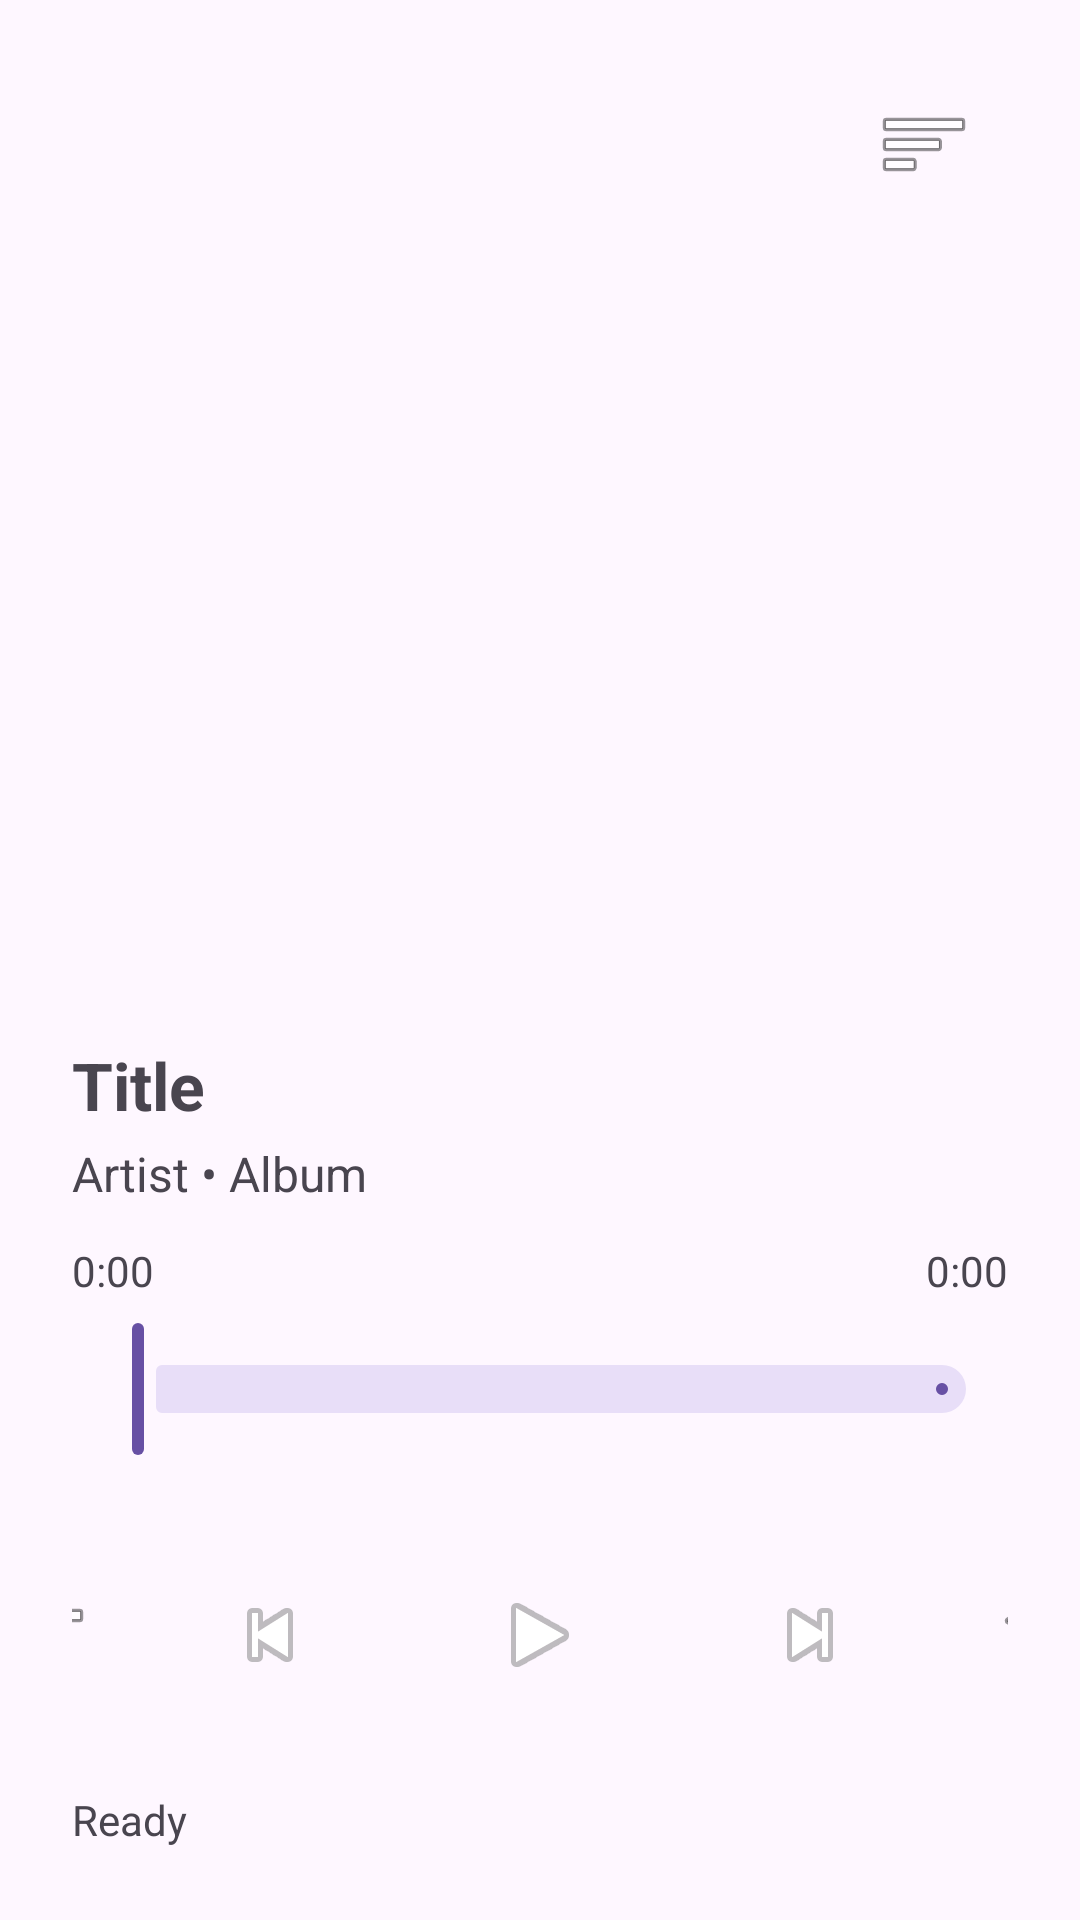

Named icons in this screenshot (1080x1920) and their bounding boxes, (x1, y1, x2, y2):
Next: (787, 1608, 833, 1662)
Play/Pause: (511, 1603, 569, 1667)
Previous: (247, 1608, 293, 1662)
